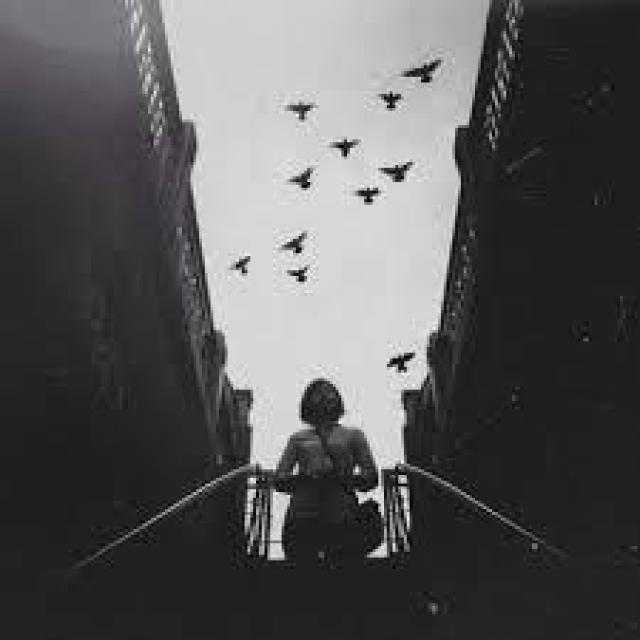bird: (400, 54, 445, 86), (378, 158, 421, 182), (286, 163, 318, 195), (284, 260, 314, 291), (277, 228, 311, 255), (284, 98, 318, 124), (348, 184, 387, 206), (374, 89, 407, 111), (329, 136, 360, 159), (228, 252, 253, 280), (384, 348, 414, 368)
